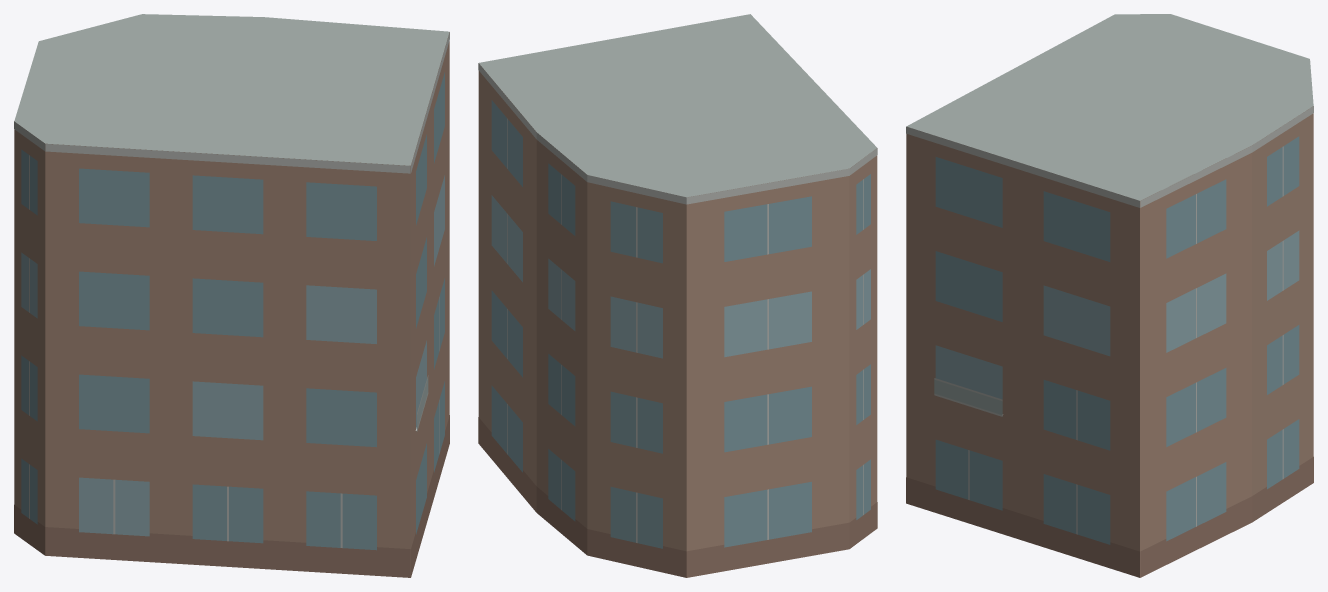
File: survey-upis-32996184.glb
The picture shows the model from 3 angles, left to right: view 1: azimuth 30°, elevation 25°; view 2: azimuth 150°, elevation 25°; view 3: azimuth 270°, elevation 25°; orthographic projection. The views are drawn at different scales.
Parts seen in each view (by area): view 1: survey-upis-32996184.tmp; view 2: survey-upis-32996184.tmp; view 3: survey-upis-32996184.tmp.
Boxes of the visible parts, x1,y1,x2,y2 form: survey-upis-32996184.tmp: (14, 14, 449, 577); survey-upis-32996184.tmp: (478, 14, 877, 577); survey-upis-32996184.tmp: (906, 14, 1313, 577).
Bounding box in the file's own units: 13.61 × 12.8 × 12.55.
